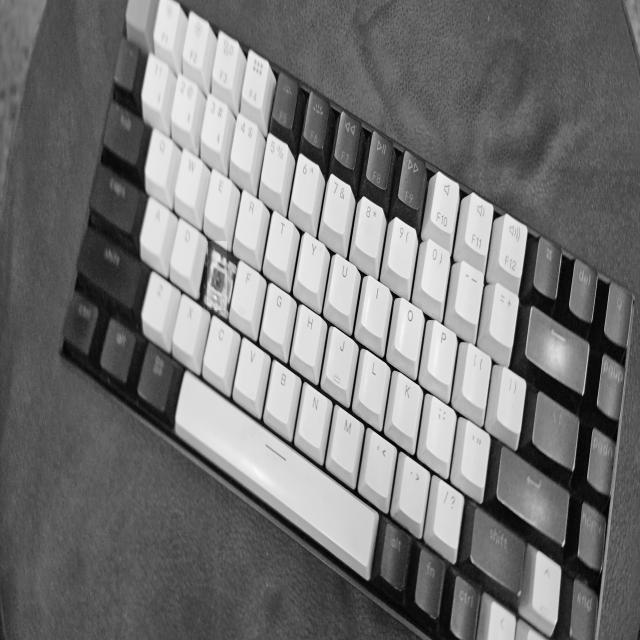C: (207, 241, 227, 310), (210, 253, 225, 310)
